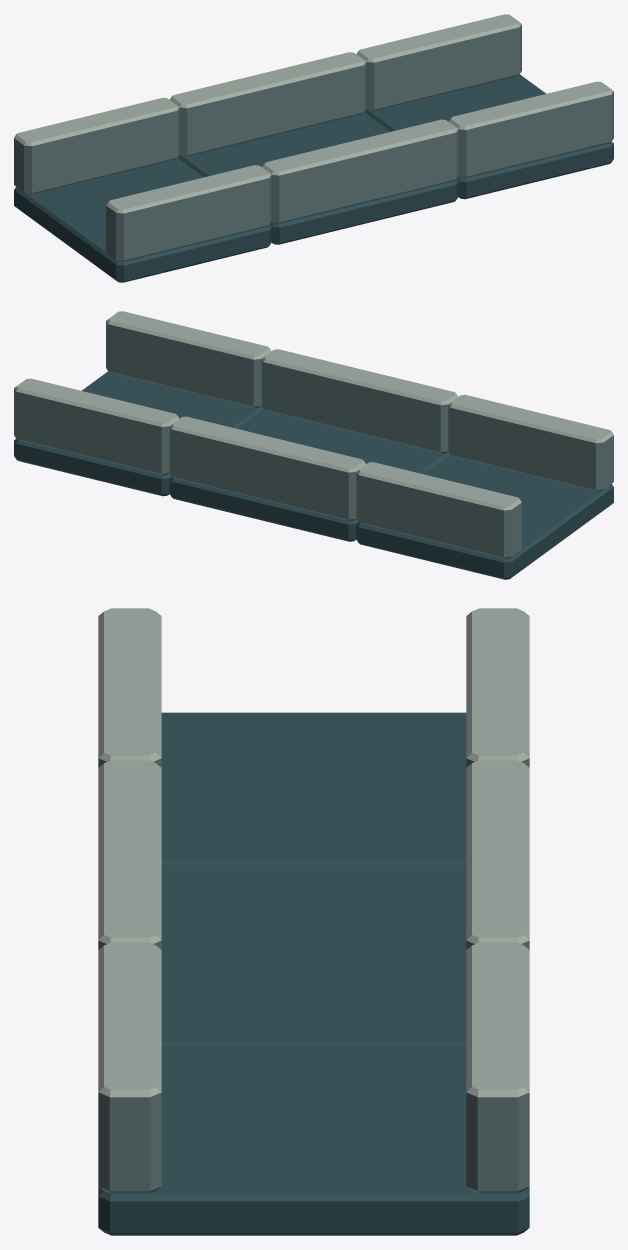
The model's file is channel-straight.glb.
The picture shows the model from 3 angles, top to bottom: view 1: azimuth 30°, elevation 25°; view 2: azimuth 150°, elevation 25°; view 3: azimuth 270°, elevation 25°; orthographic projection. The views are drawn at different scales.
Parts seen in each view (by area): view 1: channel-straight__body; view 2: channel-straight__body; view 3: channel-straight__body.
Part boxes in pixels (x1,y1,x2,y2): channel-straight__body: (14,14,613,282); channel-straight__body: (14,311,613,579); channel-straight__body: (98,608,529,1235).
Bounding box in the file's own units: 2 × 0.28 × 0.75.
